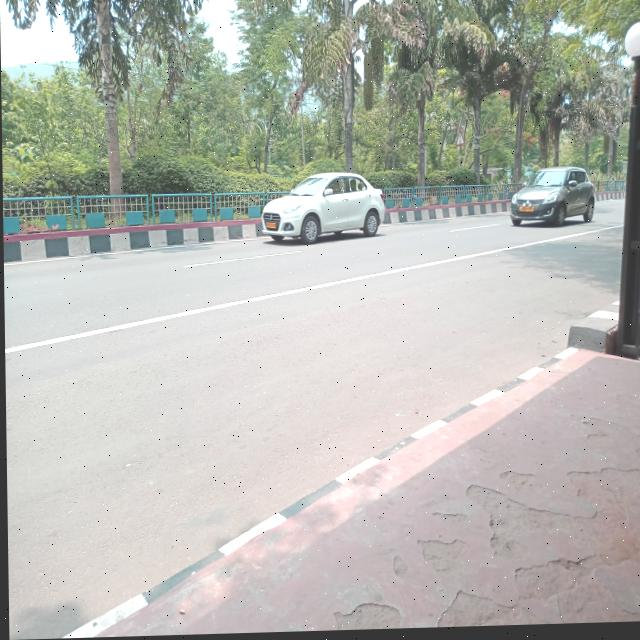car: (258, 167, 398, 267), (503, 156, 605, 245)
